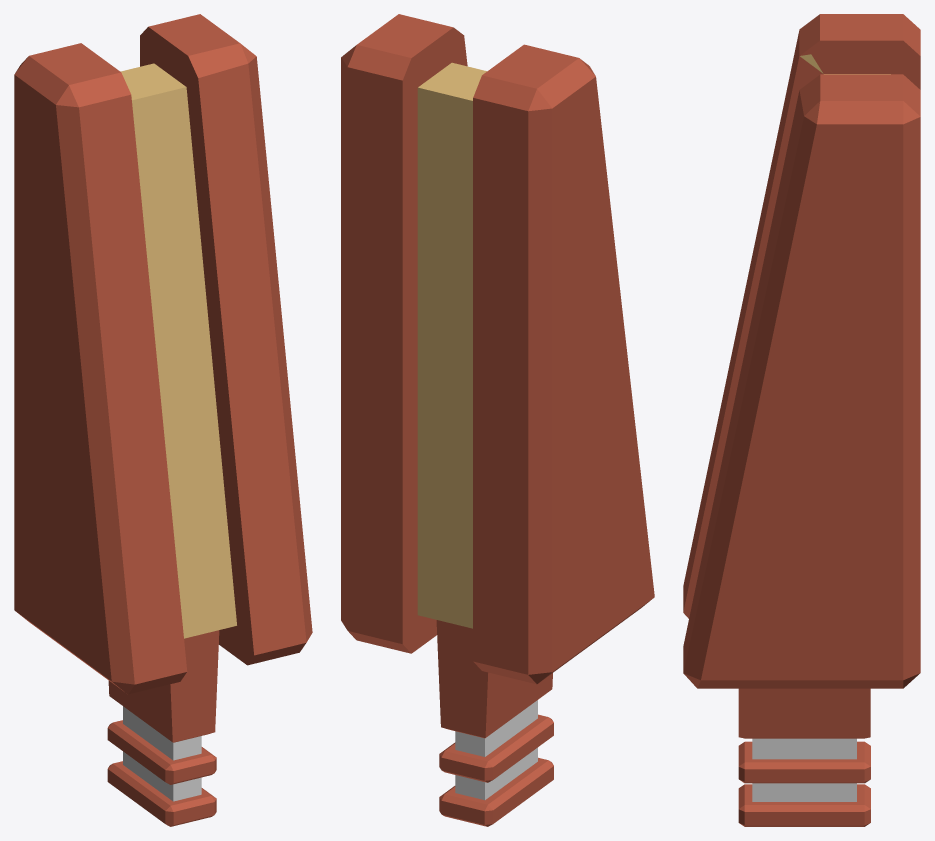
The model's file is Facade2.fbx.
The picture shows the model from 3 angles, left to right: view 1: azimuth 30°, elevation 25°; view 2: azimuth 150°, elevation 25°; view 3: azimuth 270°, elevation 25°; orthographic projection. The views are drawn at different scales.
Visible parts, largest first — view 1: Cube; view 2: Cube; view 3: Cube.
Boxes of the visible parts, bbox=[...] form: Cube: bbox=[14, 14, 312, 826]; Cube: bbox=[341, 14, 654, 826]; Cube: bbox=[683, 14, 920, 826].
Size of the model in its own units: 1500 by 5220 by 1480.
